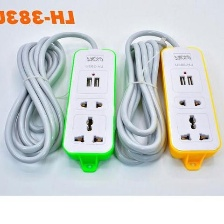three_eye_plug: (155, 40, 224, 168), (57, 42, 122, 173)
